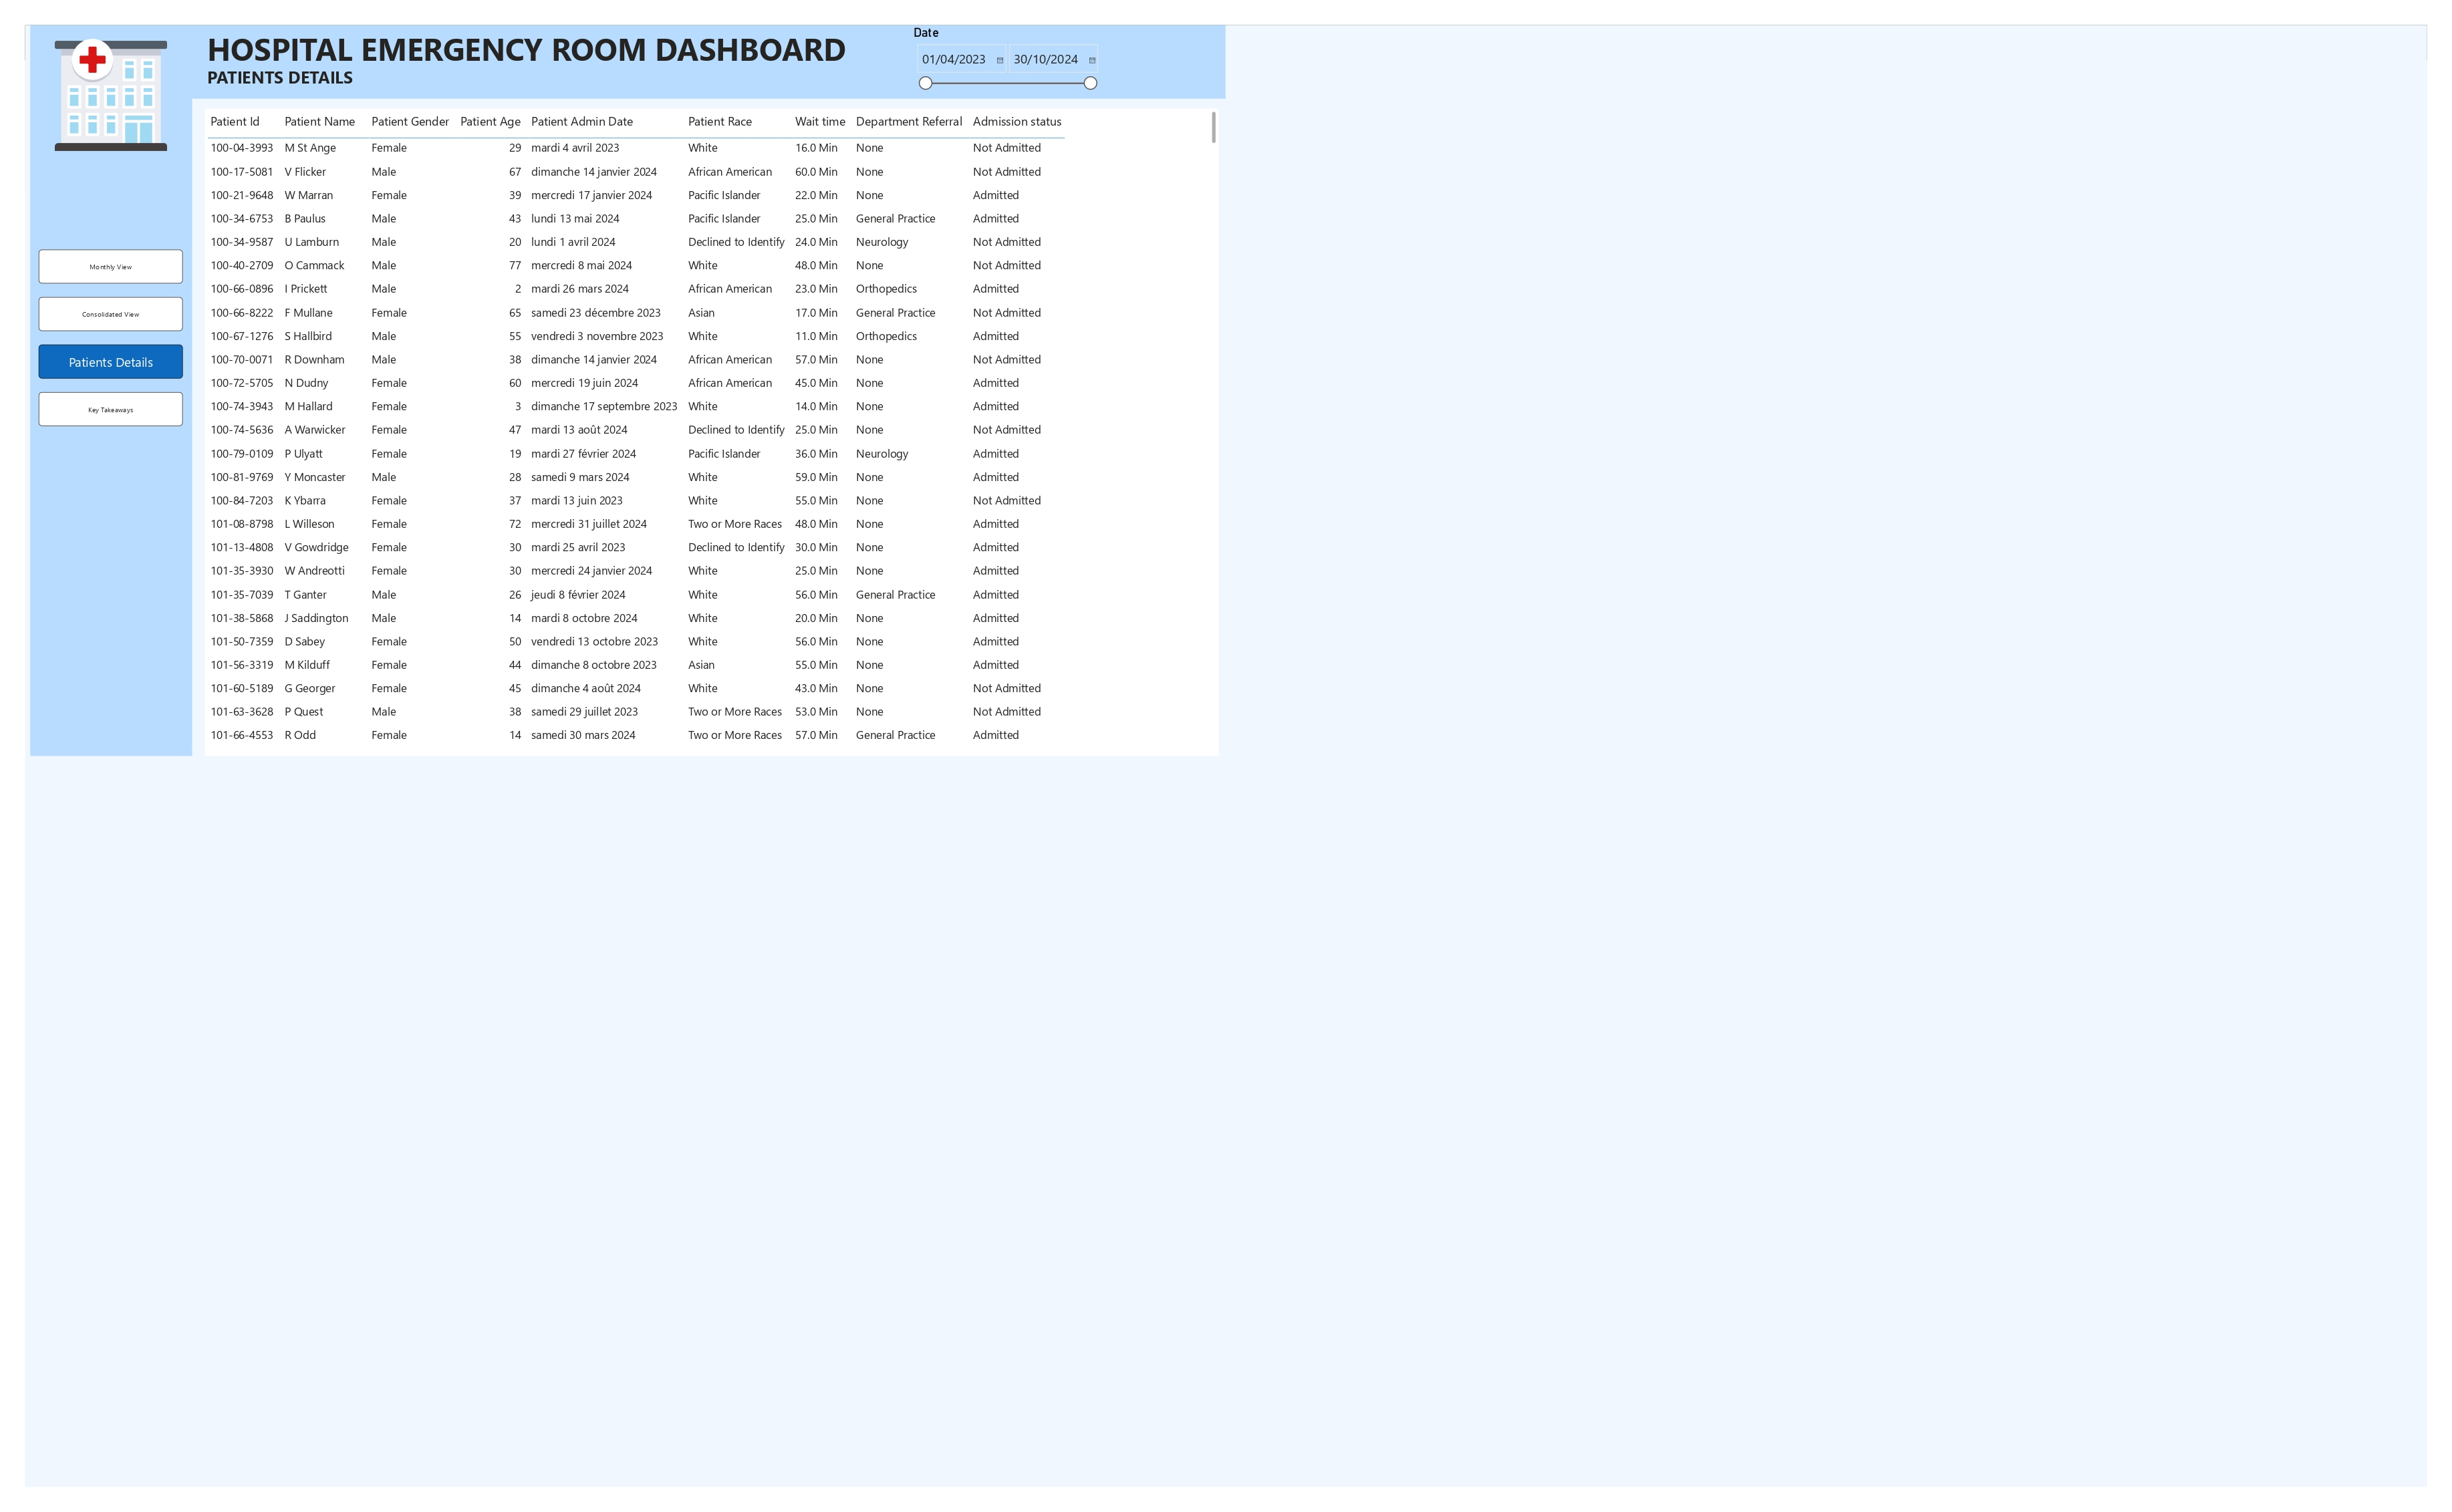

The dashboard page shown, as its layout file describes it:
{"tool":"powerbi","page":{"name":"Patients Details","canvas":[2300,1400],"ordinal":2},"visuals":[{"type":"shape","box":[10.3,0,310,1400],"z":0},{"type":"shape","box":[320.5,0,1979.5,141],"z":1000},{"type":"textbox","box":[343.6,0,1323.1,159],"z":2000},{"type":"textbox","box":[344,72,392,70],"z":3000},{"type":"slicer","title":"Date","fields":{"Values":["Hospital ER_Data.Patient Admission Date"]},"box":[1696,0,366,142],"z":4000},{"type":"tableEx","fields":{"Values":["Hospital ER_Data.Patient Id","Hospital ER_Data.Full Patien Name","Hospital ER_Data.Patient Gender","Sum(Hospital ER_Data.Patient Age)","Hospital ER_Data.Patient Admin Date","Hospital ER_Data.Patient Race","Hospital ER_Data.Avg Wait time","Hospital ER_Data.Department Referral","Hospital ER_Data.Admission status"]},"box":[344,160,1942,1240],"z":5000},{"type":"pageNavigator","box":[26,430,276,340],"z":6000},{"type":"image","box":[37.5,25,252.5,215],"z":6001}]}

Visuals, with their boxes on the page's 2300x1400 design canvas (x1, y1, x2, y2). These are canvas units, not pixel positions in the 2452x1512 screenshot, which may show the page scaled, cropped or inside an application window:
shape: [10, 0, 320, 1400]
shape: [320, 0, 2300, 141]
textbox: [344, 0, 1667, 159]
textbox: [344, 72, 736, 142]
"Date" slicer: [1696, 0, 2062, 142]
tableEx - Hospital ER_Data.Patient Id x Hospital ER_Data.Full Patien Name: [344, 160, 2286, 1400]
pageNavigator: [26, 430, 302, 770]
image: [38, 25, 290, 240]
